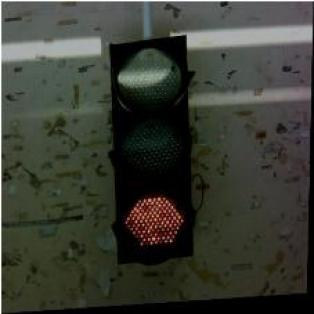Semaforo Rojo: (107, 37, 199, 267)
